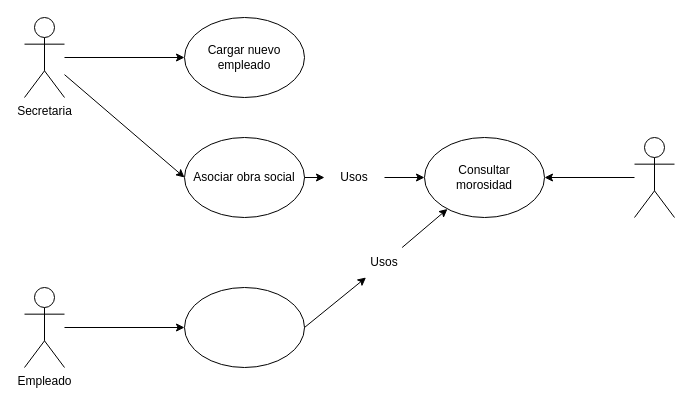
The diagram is 694 pixels wide and 406 high, and some of its shapes have lost their labels. The centre of each missing label's shape, as x and y in pixels:
Avisar regularizacion: [244,327]
Servidor externo: [654,177]
